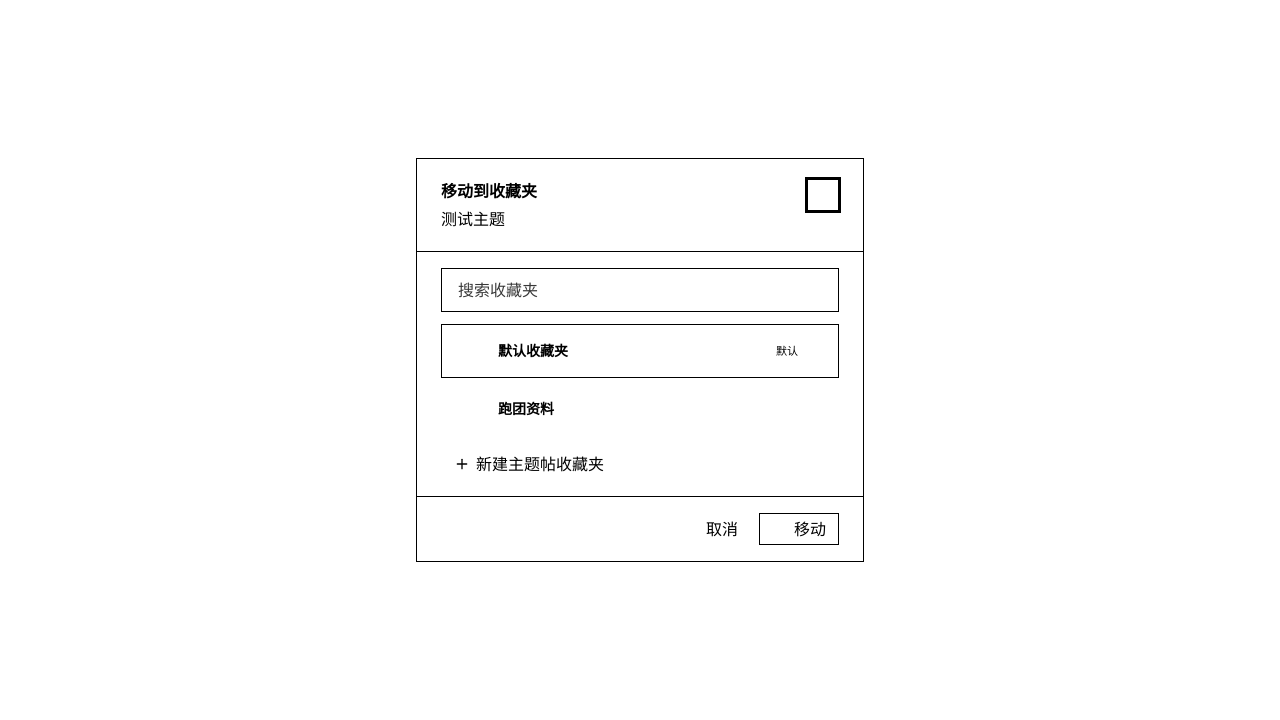
it: BookmarkFolderPickerDialog › 移动预选当前目录、搜索目标；失败保留选择与错误
This screenshot has width=1280, height=720.
Expected: the button "移动" is disabled, [759,513,839,545]
Step 1. Type "跑团" into the search field → (640, 290), box [441,268,839,312]
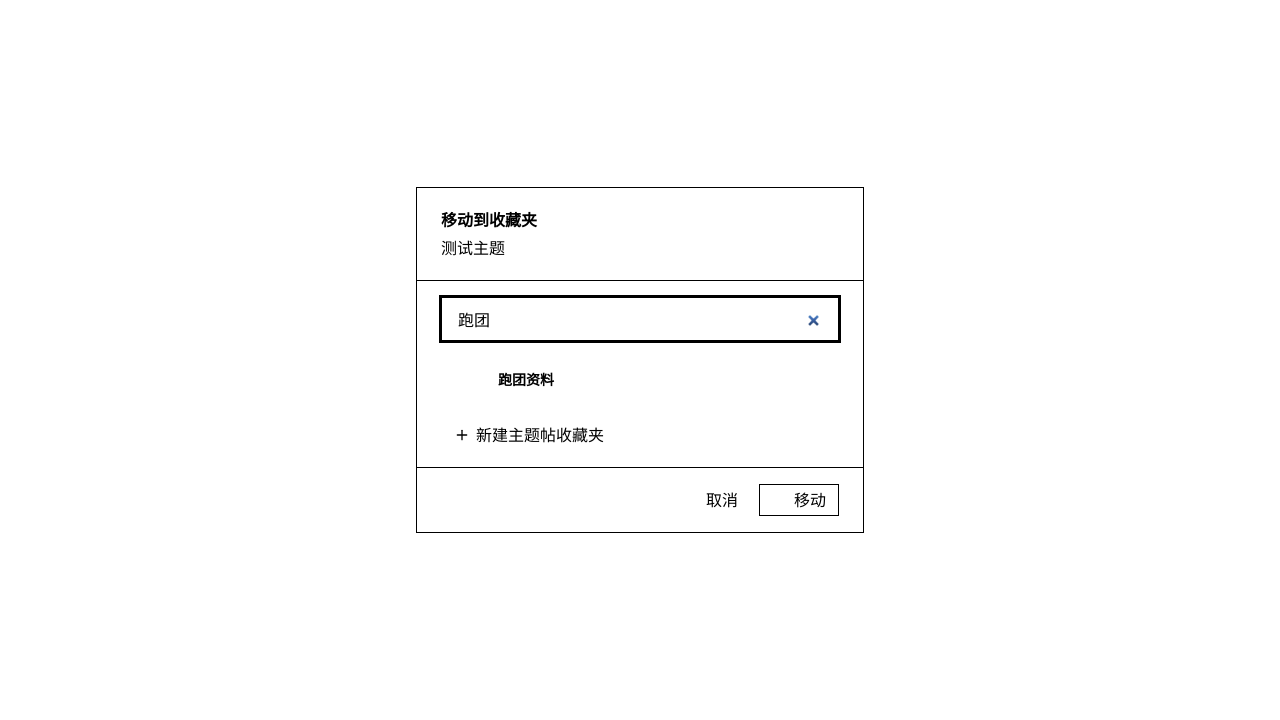
Expected: the text "默认" is gone
Step 2. Click the radio button labelled "跑团资料" → (504, 380), box [454,364,554,396]
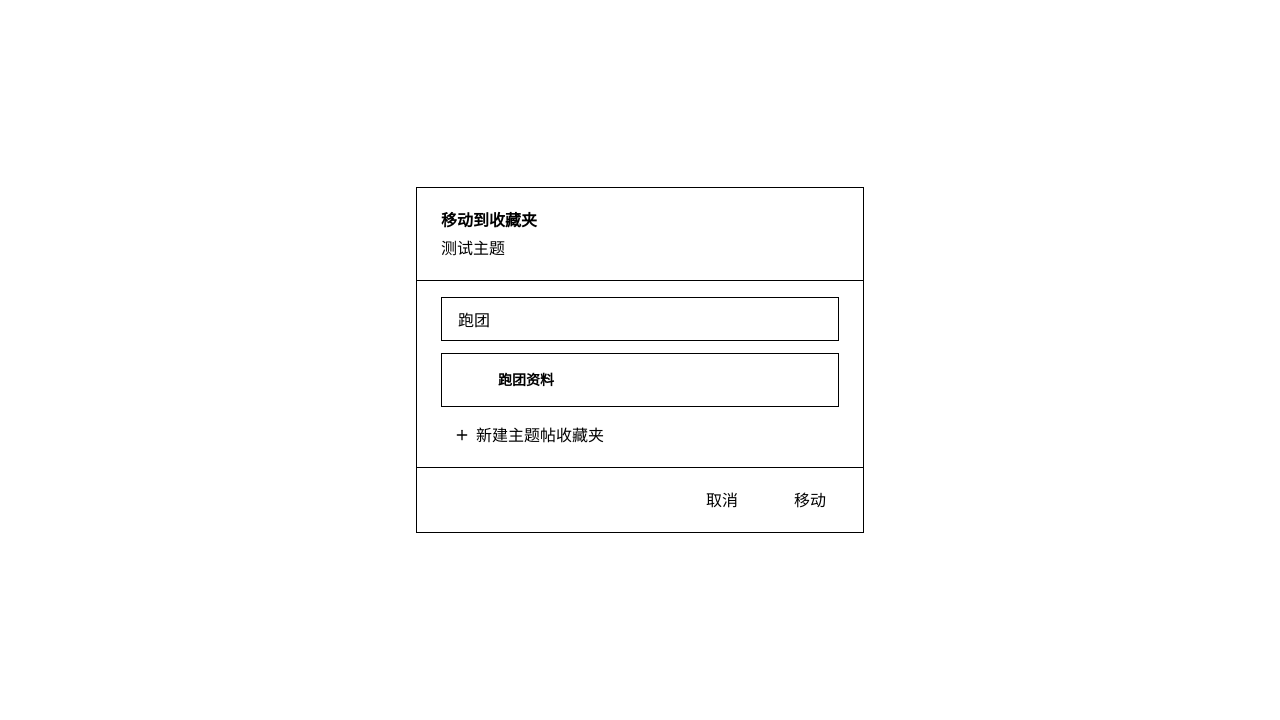
Step 3. Click the button "移动" → (799, 500), box [759,484,839,516]
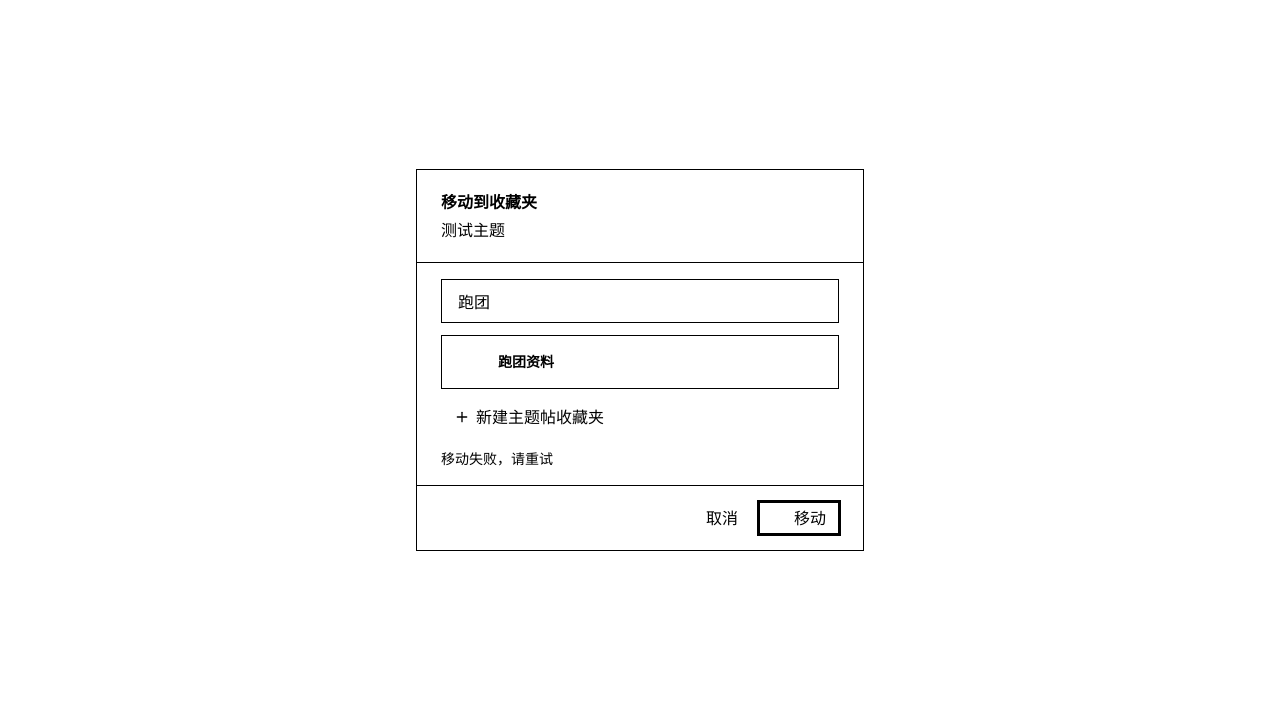
Expected: the radio button labelled "跑团资料" is checked, [441,335,839,389]
Expected: the message reads "移动失败，请重试", [441,449,553,468]
